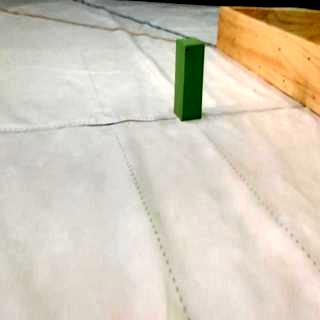greenbox: (171, 37, 205, 123)
